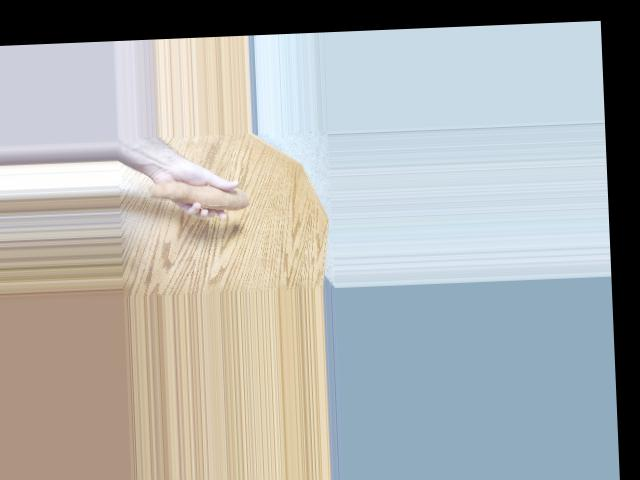sweet_potato: (138, 169, 251, 216)
